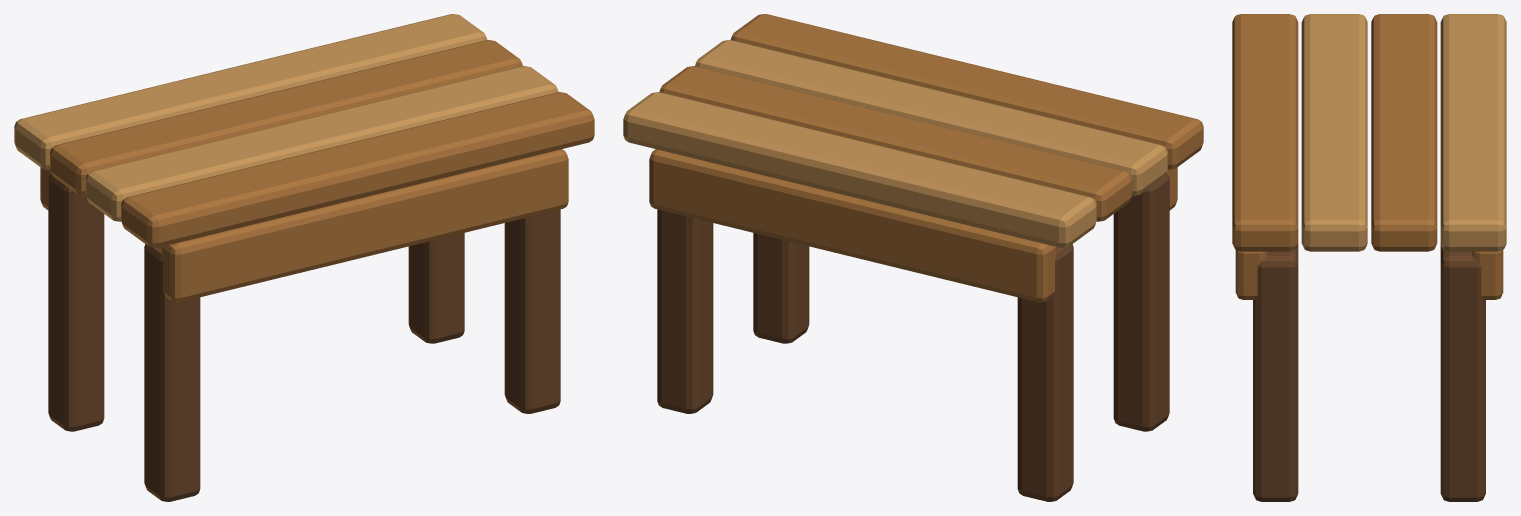
The model's file is 17_dining_table.glb.
3 renders of one model, left to right at view 1: azimuth 30°, elevation 25°; view 2: azimuth 150°, elevation 25°; view 3: azimuth 270°, elevation 25°, orthographic. The views are drawn at different scales.
Parts seen in each view (by area): view 1: Table top plank.008, Table apron.004, Table top plank.011, Table top plank.009, Table top plank.010, Table leg.010, Table leg.008, Table leg.009, Table leg.011; view 2: Table top plank.011, Table apron.005, Table top plank.008, Table top plank.010, Table top plank.009, Table leg.008, Table leg.010, Table leg.011, Table leg.009; view 3: Table top plank.008, Table top plank.009, Table top plank.010, Table top plank.011, Table leg.009, Table leg.011, Table apron.004, Table apron.005.
Part boxes in pixels (left/top/right/bottom): Table top plank.008: left=121, top=92, right=594, bottom=247; Table apron.004: left=161, top=149, right=568, bottom=302; Table top plank.011: left=14, top=14, right=487, bottom=169; Table top plank.009: left=85, top=66, right=558, bottom=221; Table top plank.010: left=50, top=40, right=522, bottom=195; Table leg.010: left=48, top=173, right=104, bottom=431; Table leg.008: left=144, top=244, right=200, bottom=501; Table leg.009: left=504, top=209, right=560, bottom=413; Table leg.011: left=408, top=233, right=464, bottom=343; Table top plank.011: left=623, top=92, right=1096, bottom=247; Table apron.005: left=649, top=149, right=1056, bottom=302; Table top plank.008: left=730, top=14, right=1203, bottom=169; Table top plank.010: left=659, top=66, right=1132, bottom=221; Table top plank.009: left=695, top=40, right=1167, bottom=195; Table leg.008: left=1113, top=173, right=1169, bottom=431; Table leg.010: left=1017, top=244, right=1073, bottom=501; Table leg.011: left=657, top=209, right=713, bottom=413; Table leg.009: left=753, top=233, right=809, bottom=343; Table top plank.008: left=1232, top=14, right=1298, bottom=251; Table top plank.009: left=1301, top=14, right=1367, bottom=251; Table top plank.010: left=1371, top=14, right=1437, bottom=251; Table top plank.011: left=1440, top=14, right=1506, bottom=251; Table leg.009: left=1253, top=248, right=1298, bottom=501; Table leg.011: left=1440, top=248, right=1485, bottom=501; Table apron.004: left=1235, top=250, right=1266, bottom=299; Table apron.005: left=1472, top=250, right=1503, bottom=299.
Size of the model in its own units: 1.45 by 0.93 by 0.79.
